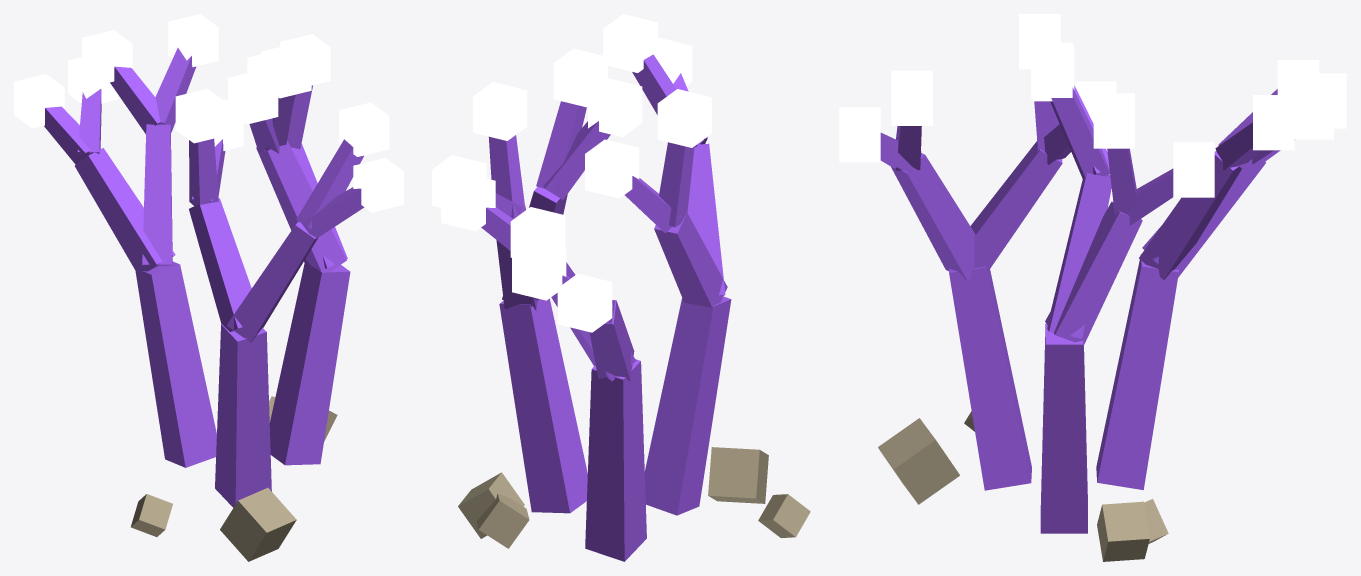
File: CORAL_Branch.glb
3 renders of one model, left to right at view 1: azimuth 30°, elevation 25°; view 2: azimuth 150°, elevation 25°; view 3: azimuth 270°, elevation 25°, orthographic. The views are drawn at different scales.
Parts seen in each view (by area): view 1: CORAL_Branch_Main, CORAL_Branch_Glow, CORAL_Branch_Rock; view 2: CORAL_Branch_Main, CORAL_Branch_Glow, CORAL_Branch_Rock; view 3: CORAL_Branch_Main, CORAL_Branch_Glow, CORAL_Branch_Rock.
Part boxes in pixels (x1,y1,x2,y2): CORAL_Branch_Main: (44,48,364,507); CORAL_Branch_Glow: (14,14,403,212); CORAL_Branch_Rock: (131,396,337,561); CORAL_Branch_Main: (481,54,731,561); CORAL_Branch_Glow: (432,14,711,332); CORAL_Branch_Rock: (458,447,810,548); CORAL_Branch_Main: (880,85,1280,533); CORAL_Branch_Glow: (839,14,1346,197); CORAL_Branch_Rock: (878,411,1168,561).
Bounding box in the file's own units: 1.3 × 2.1 × 1.97.
